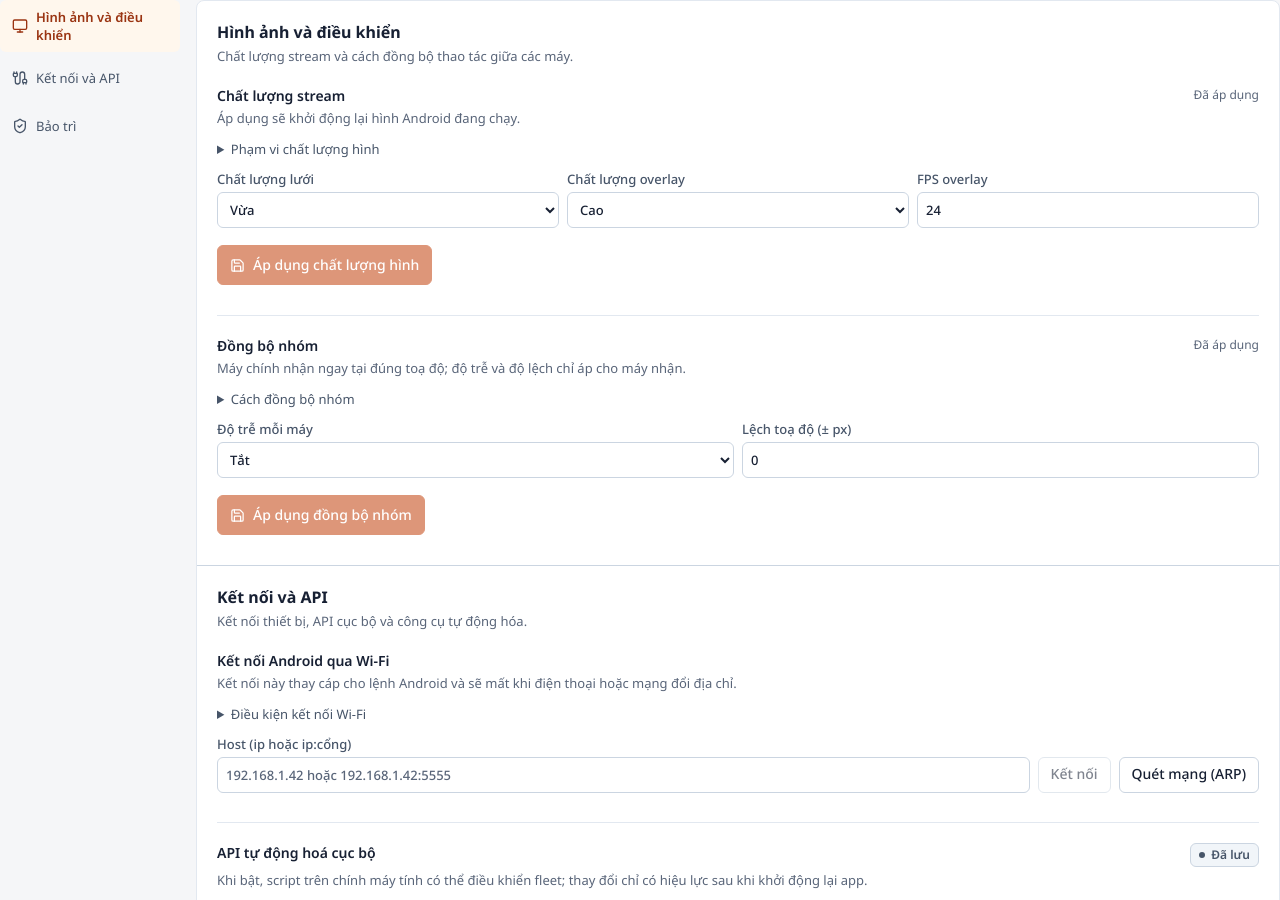
independent settings drafts › keeps newer FPS edits when an older save returns
The width and height of the screenshot is (1280, 900).
Step 1. Replace the text in the number field labelled "FPS overlay" with "15" → (1088, 210), box top-left (917, 192), bottom-right (1259, 228)
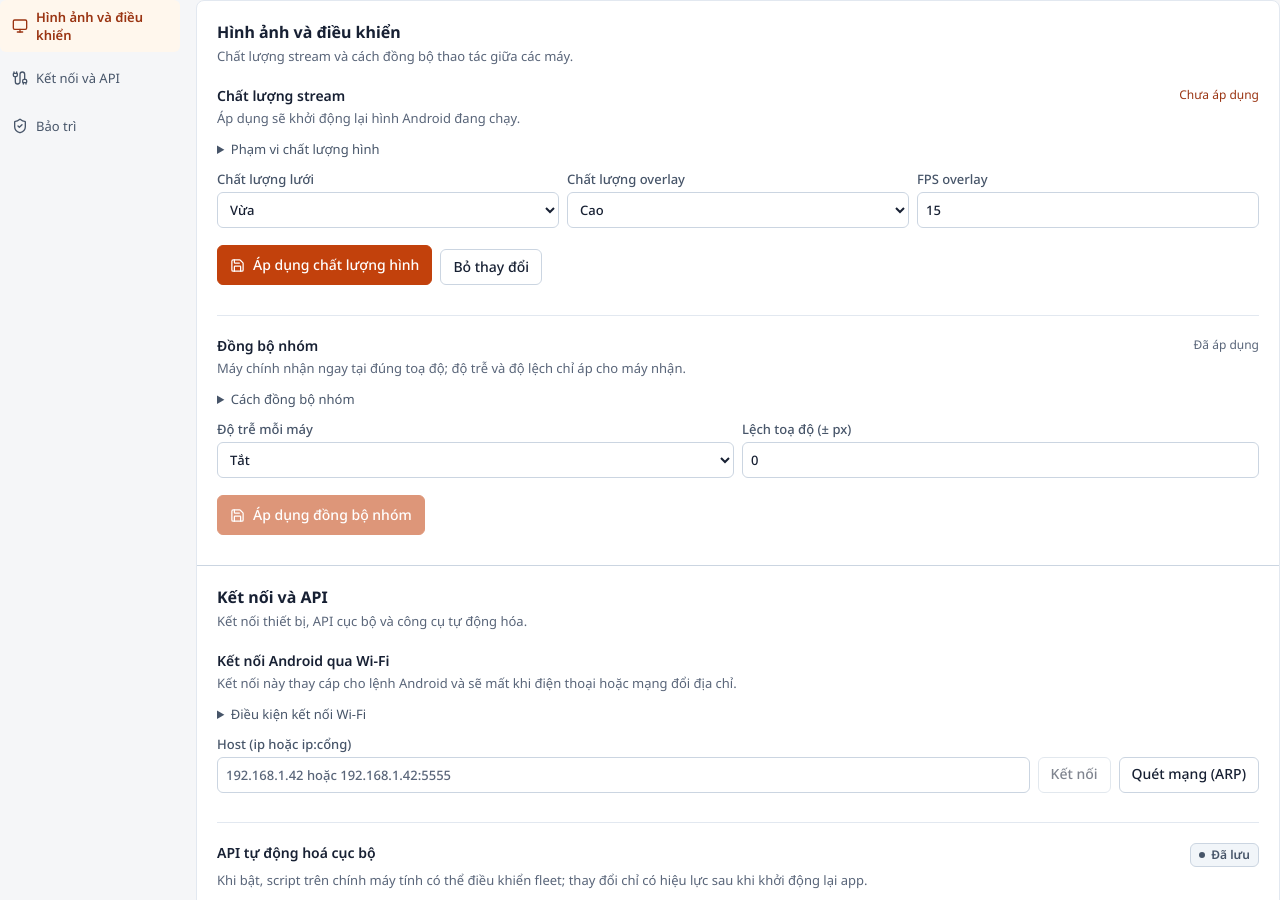
Step 2. Click the button "Áp dụng chất lượng hình" → (325, 265), box top-left (217, 245), bottom-right (432, 285)
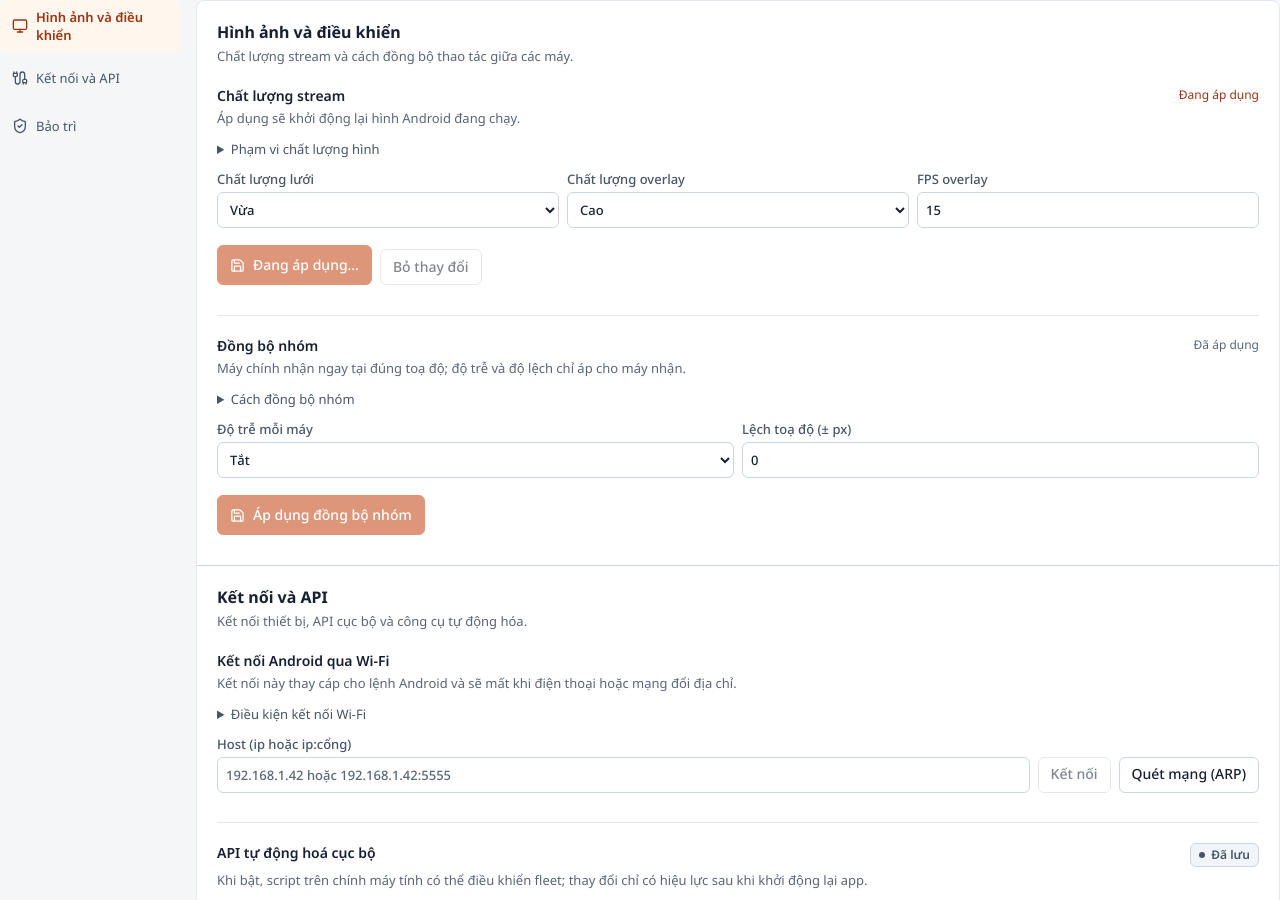
Step 3. Replace the text in the number field labelled "FPS overlay" with "20" → (1088, 210), box top-left (917, 192), bottom-right (1259, 228)
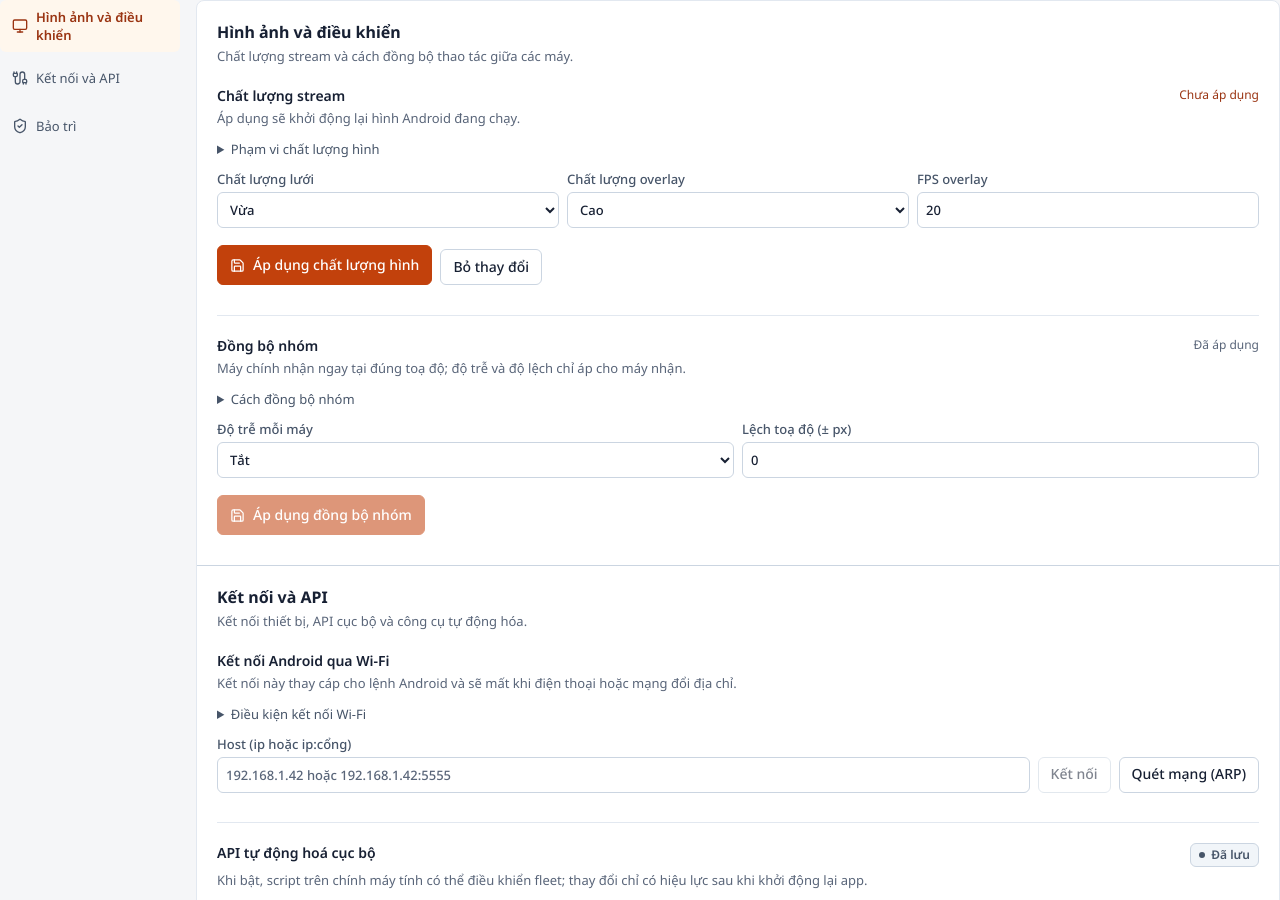
Expected: the button "Áp dụng chất lượng hình" is enabled, top-left (217, 245), bottom-right (432, 285)
